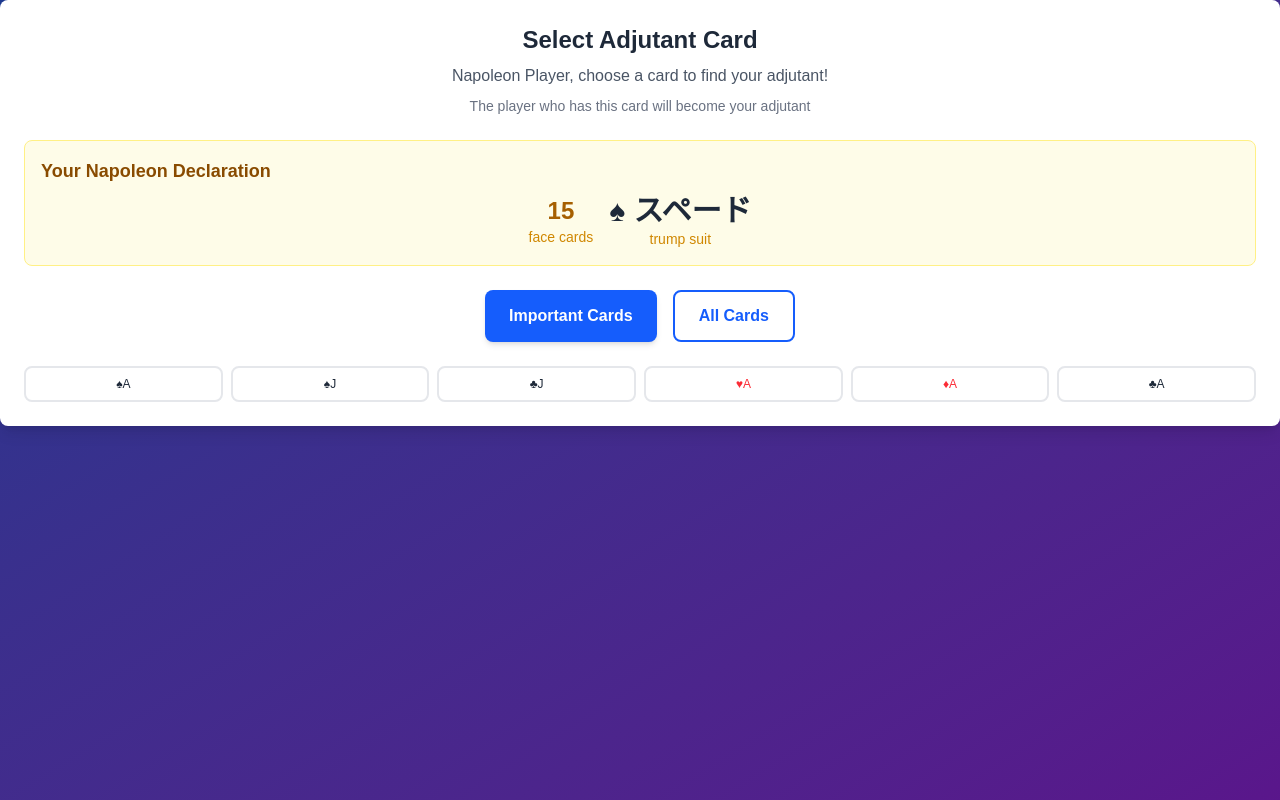
Test case: AdjutantSelector › should handle card selection
The width and height of the screenshot is (1280, 800).
Click the first important card (Spades A - Mighty)
Click the button with test id "card-spades-A" at (123, 384), box [24, 366, 223, 402]
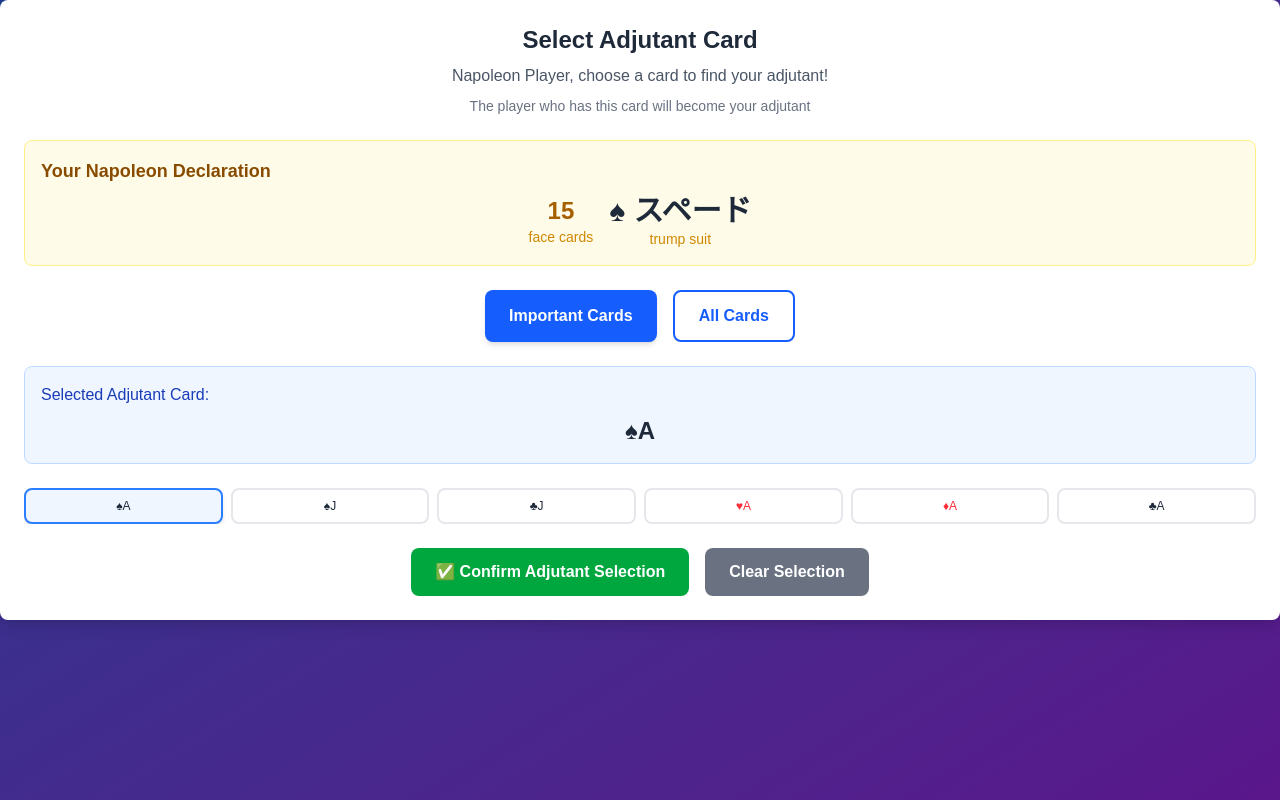
expect the heading "Selected Adjutant Card:" is shown: met, box [41, 386, 209, 403]
